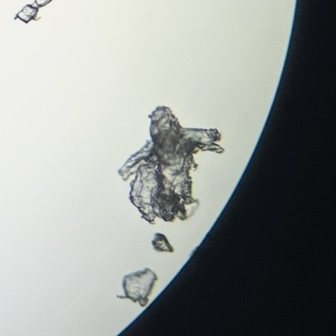microplastic: (118, 106, 225, 225), (116, 269, 157, 306), (14, 1, 52, 23), (152, 233, 173, 251)
